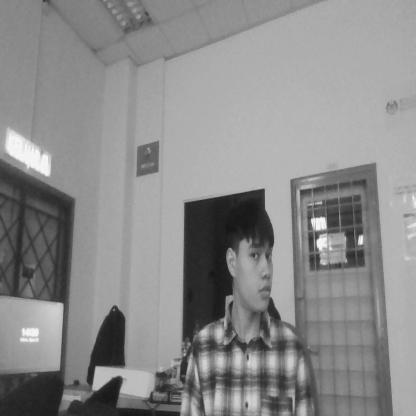Open-Eyes: (245, 239, 276, 265)
